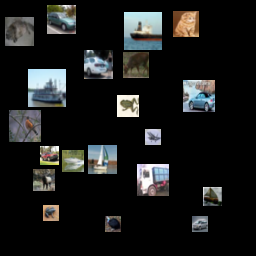airplane: (145, 129, 161, 145)
automobile: (183, 80, 215, 112), (84, 50, 113, 79), (47, 5, 76, 34), (40, 146, 59, 165), (192, 216, 208, 232)
bird: (9, 110, 41, 142), (105, 216, 121, 232)
cat: (5, 17, 34, 46), (173, 11, 199, 37)
deer: (123, 52, 149, 78), (33, 169, 55, 191)
frog: (117, 95, 139, 117), (43, 205, 59, 221)
ship: (124, 12, 162, 50), (28, 69, 66, 107), (88, 145, 117, 174), (62, 150, 84, 172), (203, 187, 222, 206)
